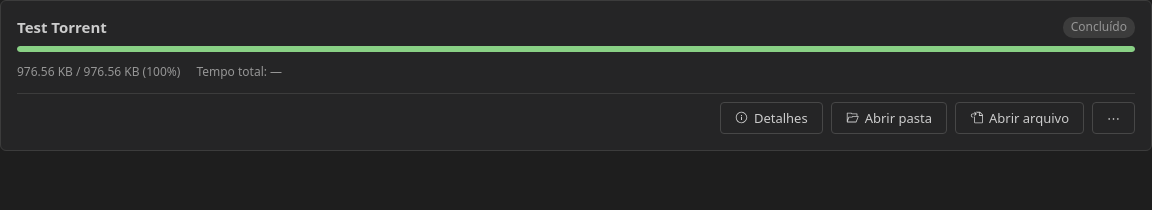
DownloadItem — botões Abrir pasta / Abrir arquivo › exibe mensagem de erro quando openFile retorna success: false
What coordinates should you click on to do the following:
click the button "Abrir arquivo"
I would click on:
 (1020, 118)
Its box is x1=955 y1=102 x2=1084 y2=134.
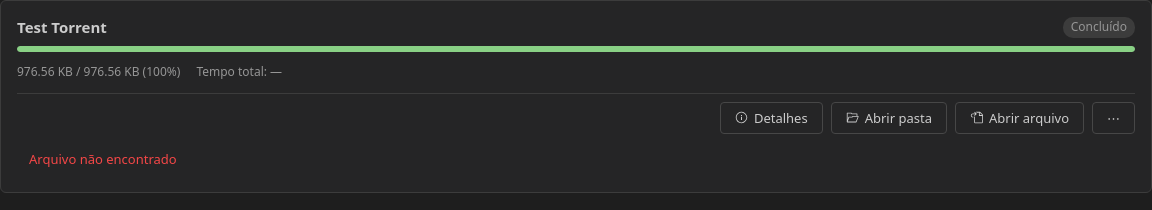
Now the message reads "Arquivo não encontrado", box x1=29 y1=150 x2=177 y2=168
